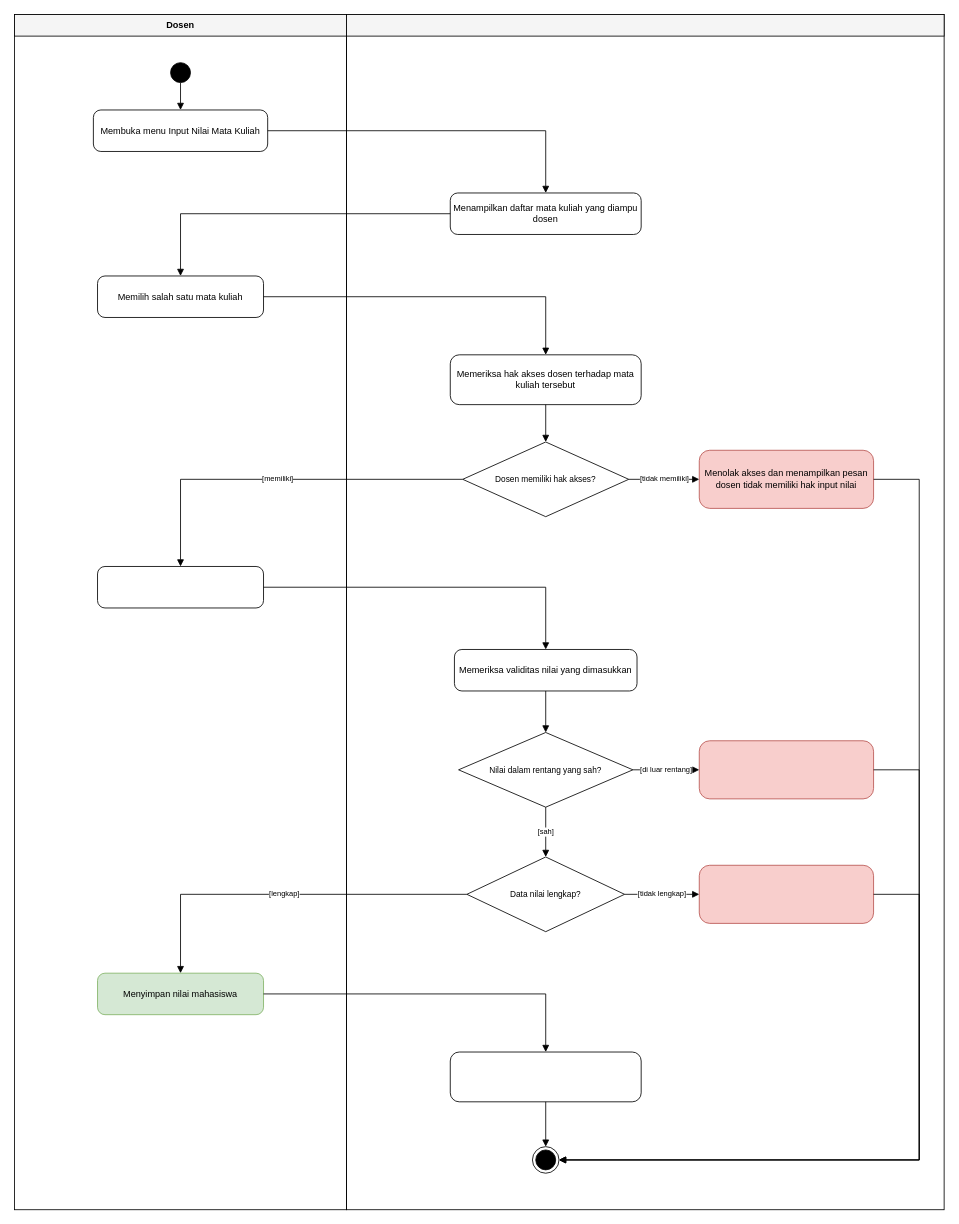
This 959x1224 diagram has some shape labels left out. Here are the shapes that lost their labels. From the top down, the centre of each, then its label:
pixel 645 25: Sistem
pixel 180 587: Memasukkan nilai mahasiswa
pixel 786 769: Menolak nilai dan meminta dosen memasukkan nilai yang sesuai
pixel 786 893: Menampilkan pesan kesalahan dan meminta data dilengkapi
pixel 545 1076: Menyimpan nilai dan menampilkan konfirmasi berhasil
